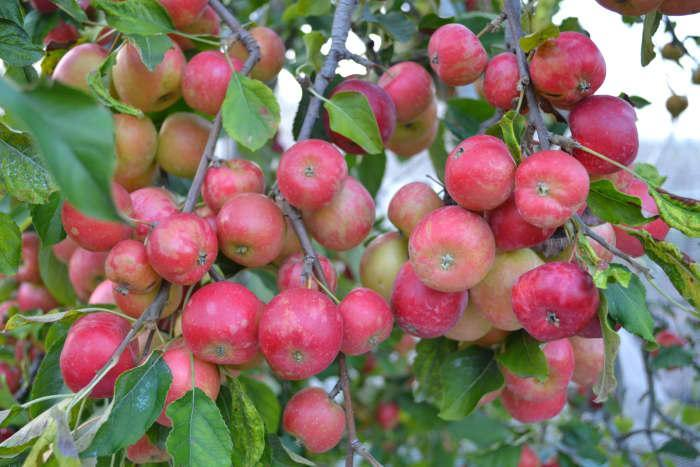apple: (258, 286, 345, 379), (511, 258, 604, 343), (58, 312, 143, 399), (408, 206, 493, 291), (180, 279, 260, 366), (527, 29, 607, 109), (394, 260, 470, 341), (516, 148, 590, 228), (569, 92, 640, 175), (301, 175, 375, 251), (111, 38, 185, 113), (213, 192, 285, 268), (445, 133, 514, 210), (327, 78, 392, 159), (498, 333, 573, 403), (62, 184, 134, 252), (148, 210, 213, 284), (280, 387, 346, 456), (426, 20, 486, 89), (179, 49, 240, 114), (341, 286, 396, 356), (108, 111, 162, 180), (154, 112, 210, 178), (484, 202, 557, 252), (201, 157, 264, 213), (357, 231, 408, 300), (385, 178, 443, 238), (103, 235, 160, 293), (232, 24, 285, 84), (163, 349, 221, 403), (47, 41, 107, 92), (379, 60, 433, 115), (482, 51, 522, 111)
